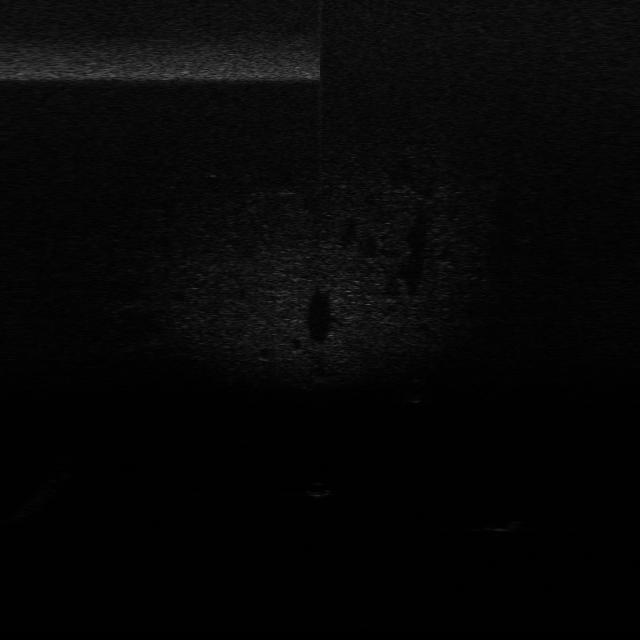ball: (478, 514, 537, 536)
square cage: (496, 513, 542, 534)
tyre: (300, 478, 340, 498)
